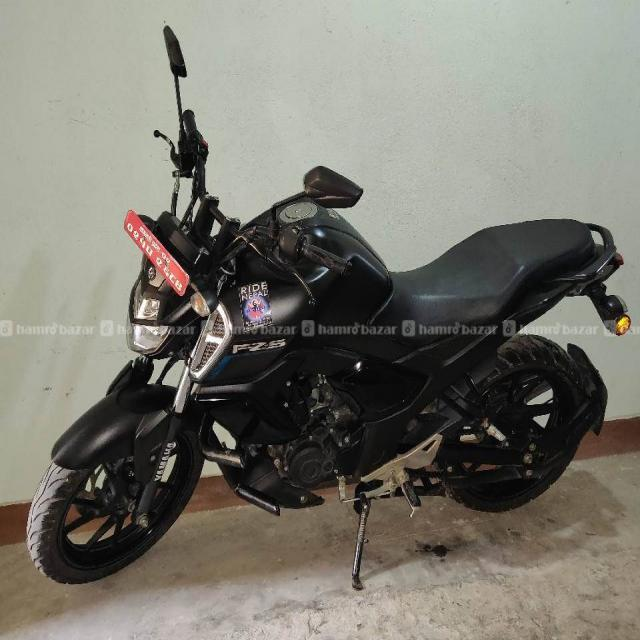License-plate: (124, 206, 191, 302)
